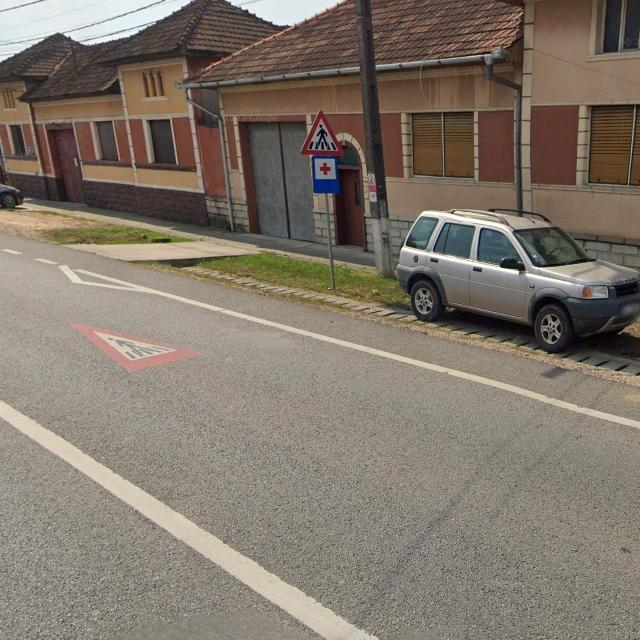warn_crosswalk: (69, 321, 207, 373), (299, 110, 346, 156)
